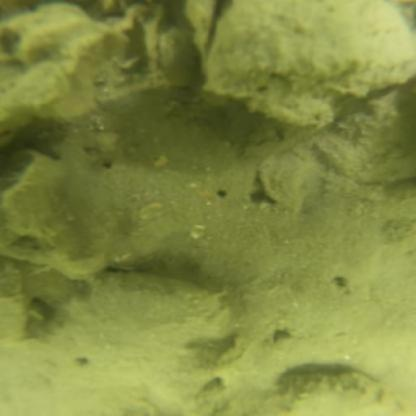Oyster- Indeterminate: (189, 0, 416, 136)
Oyster-Closed: (40, 268, 239, 391), (313, 86, 416, 186), (280, 376, 382, 416)
